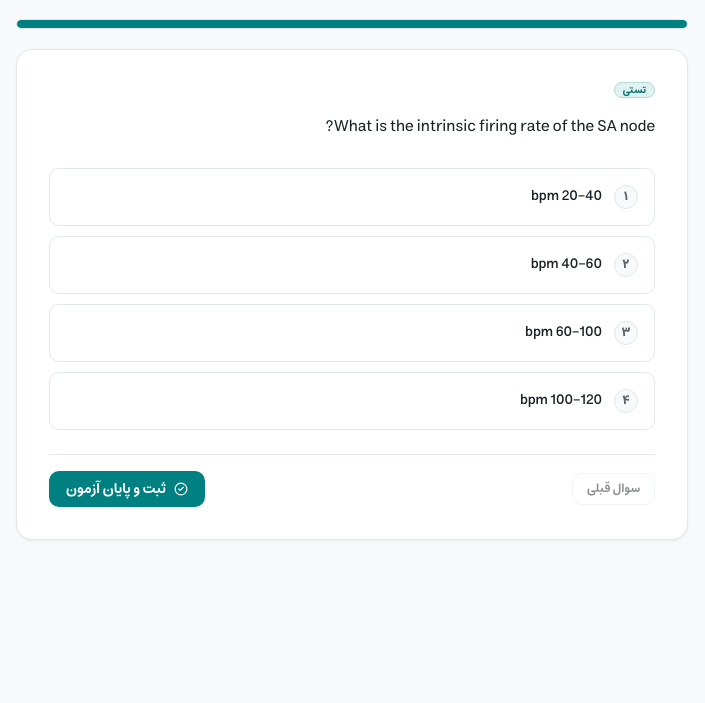
PR6-9B: End-to-End Student Learning Journey › allows selecting a quiz, taking it, submitting attempt, and reviewing scored results
This screenshot has width=705, height=703.
Expected: the text "What is the intrinsic firing rate of the SA node?" is shown, [325,112,655,140]
Expected: the text "60-100 bpm" is shown, [525,320,602,344]
Select choice "60-100 bpm"
Click the button "۳ 60-100 bpm": (579, 332) [49,304,655,362]
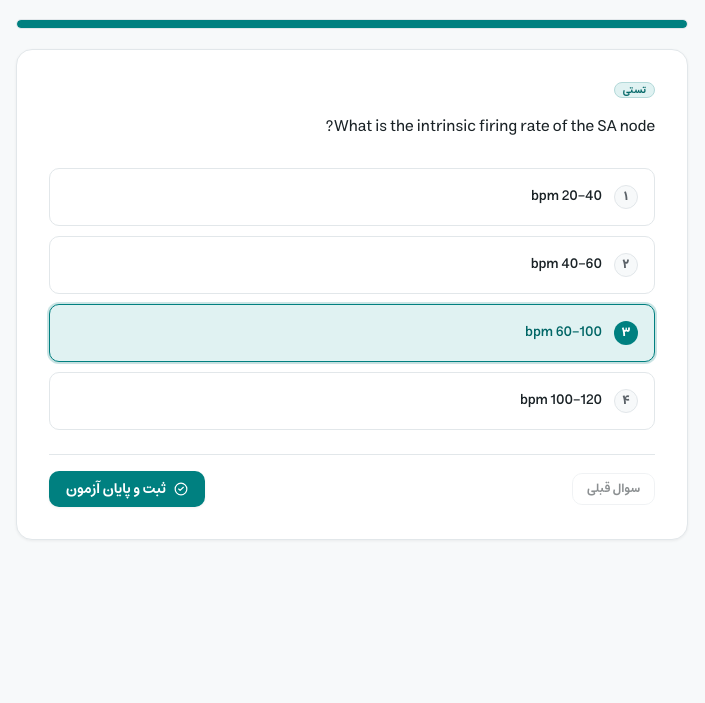
Now the button "۳ 60-100 bpm" is pressed, box [49,304,655,362]
Submit Quiz
Click the button "ثبت و پایان آزمون": (127, 489) [49,471,205,507]
(page scrolled)
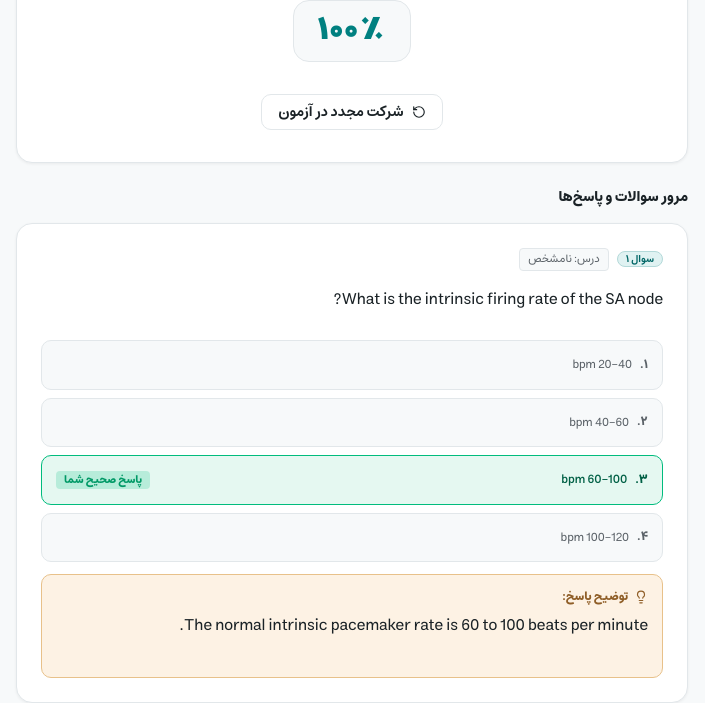
Now the text "۱۰۰٪" is shown, box [318,13,386,49]
Now the heading "مرور سوالات و پاسخ‌ها" is shown, box [558,185,688,209]
Now the text "normal intrinsic pacemaker rate is 60 to 100" is shown, box [179,611,648,639]
